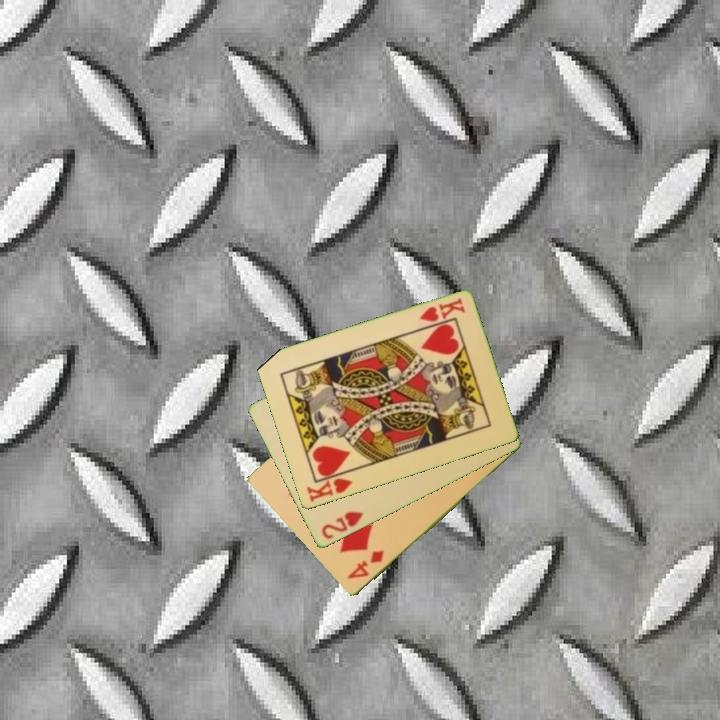2h: (318, 508, 366, 542)
4d: (344, 547, 388, 582)
Kh: (303, 468, 356, 506), (416, 295, 468, 325)
